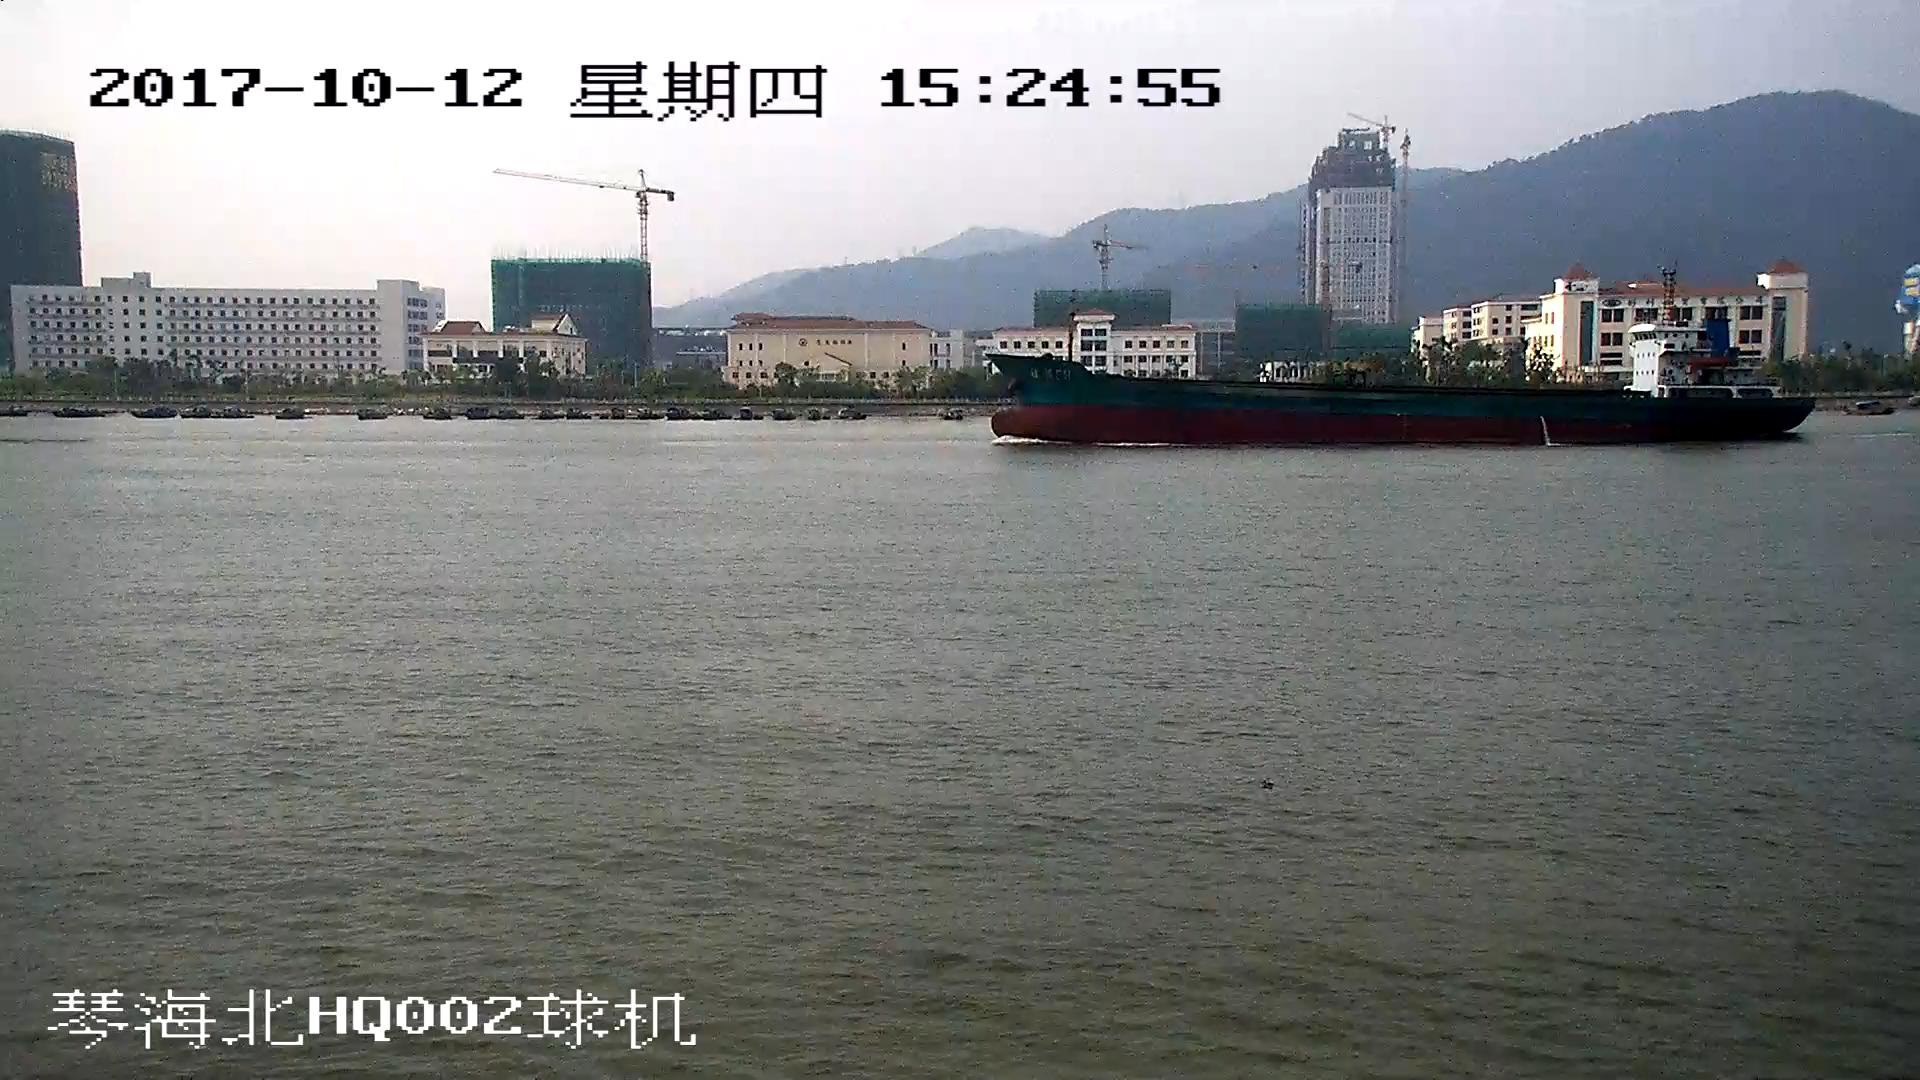general cargo ship: (990, 308, 1811, 447)
